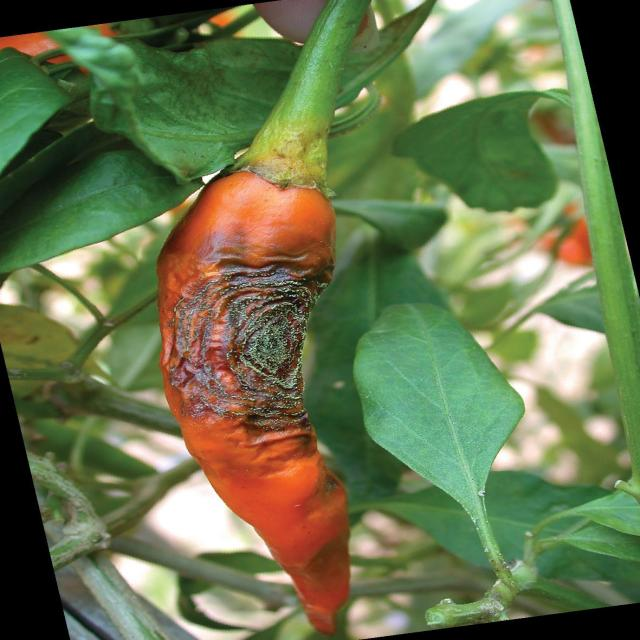Moko: (128, 186, 352, 492)
